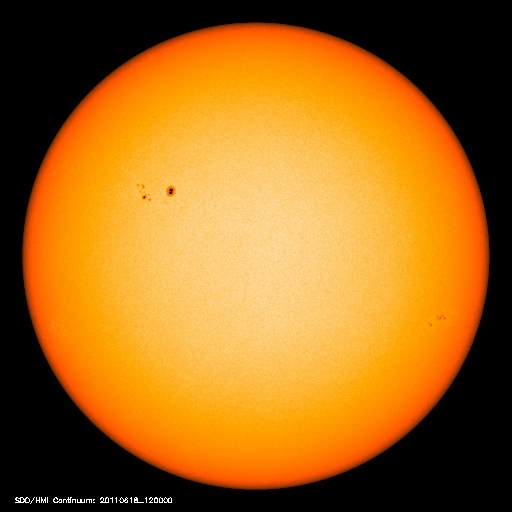sunspot: (128, 177, 182, 209), (421, 303, 454, 337)
